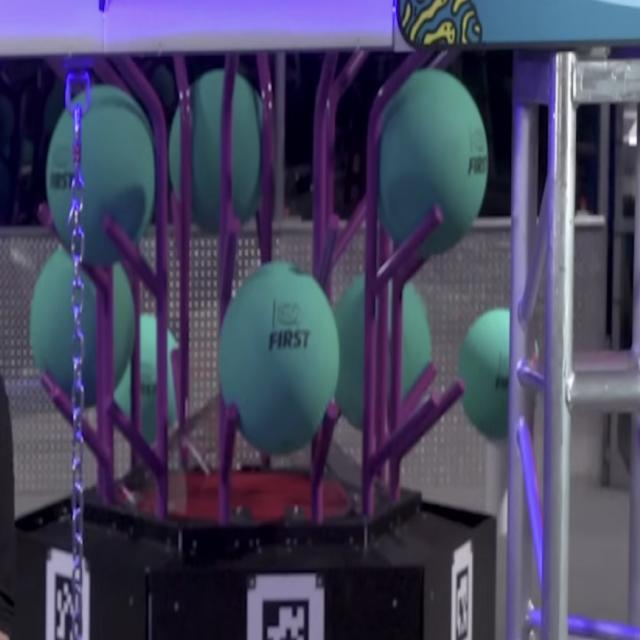Algae: (218, 264, 338, 456), (378, 70, 488, 255), (46, 83, 155, 264), (30, 246, 136, 407), (169, 69, 264, 232), (334, 272, 432, 429), (114, 314, 179, 446), (458, 309, 512, 441)
Coral: (485, 441, 509, 535)
Reef: (370, 391, 440, 476), (374, 204, 442, 291), (38, 204, 106, 291), (400, 378, 466, 458), (106, 400, 164, 480), (51, 385, 107, 465), (104, 216, 159, 294), (333, 195, 367, 265), (400, 362, 438, 422), (316, 405, 337, 481), (223, 219, 240, 302), (321, 215, 339, 275), (222, 404, 237, 472), (401, 257, 428, 283), (172, 194, 181, 252), (172, 348, 180, 412), (41, 371, 53, 393), (256, 208, 262, 247)
